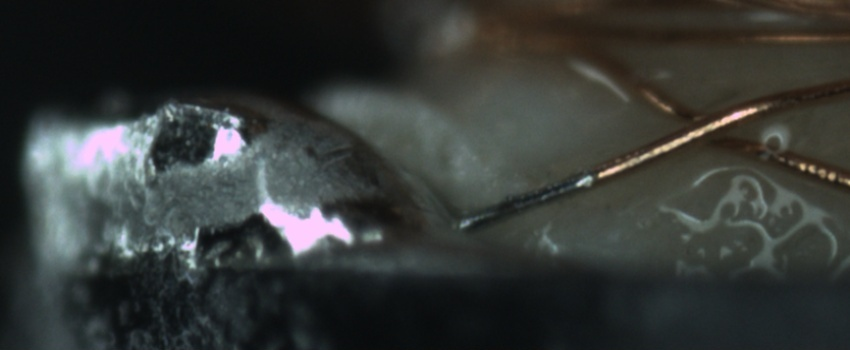CL: (651, 92, 752, 157)
TS: (453, 168, 594, 236)
